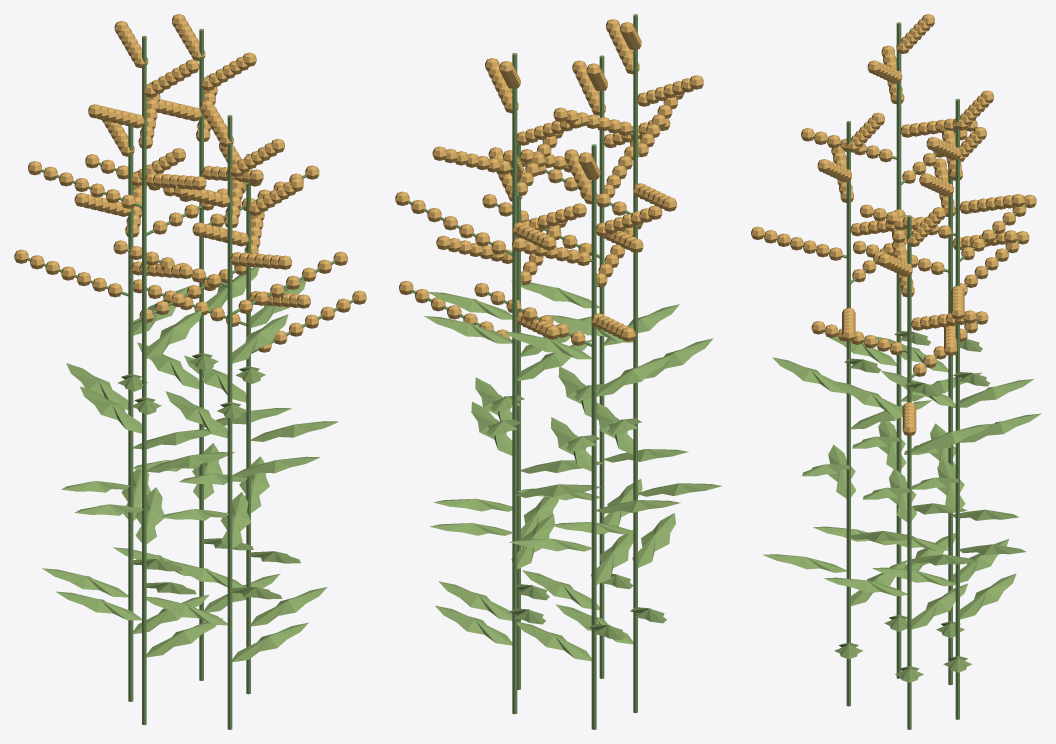
3 renders of one model, left to right at view 1: azimuth 30°, elevation 25°; view 2: azimuth 150°, elevation 25°; view 3: azimuth 270°, elevation 25°, orthographic. The views are drawn at different scales.
Parts seen in each view (by area): view 1: WW-347 Goldenrod branching plume stand batched; view 2: WW-347 Goldenrod branching plume stand batched; view 3: WW-347 Goldenrod branching plume stand batched.
Boxes of the visible parts, box(x1,y1,x2,y2) form: WW-347 Goldenrod branching plume stand batched: box(14, 14, 366, 729); WW-347 Goldenrod branching plume stand batched: box(395, 14, 722, 729); WW-347 Goldenrod branching plume stand batched: box(751, 14, 1041, 729).
Size of the model in its own units: 0.3873 by 0.837 by 0.3342.
